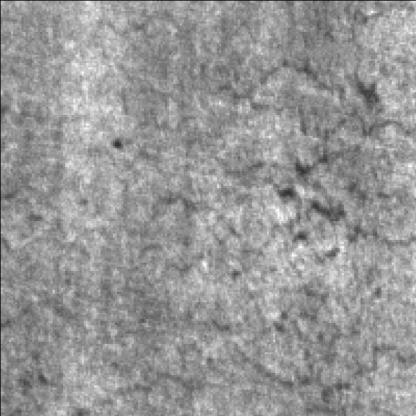crazing: (154, 48, 414, 252), (68, 291, 408, 410)
